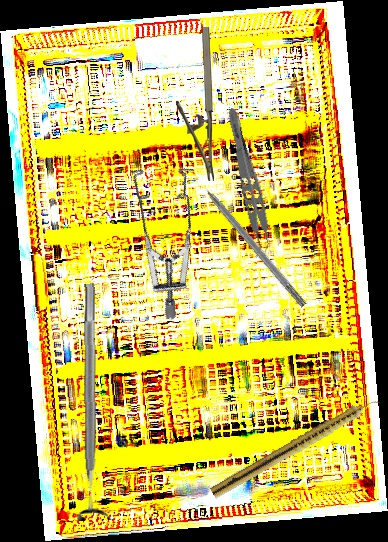Fixation Ring: (70, 283, 113, 521)
Handpiece: (209, 392, 383, 503)
Hook Surgical: (191, 171, 309, 309)
Needle Holder: (176, 27, 214, 181)
Speculum: (75, 143, 243, 323)
Tissue Forceps: (214, 106, 279, 259)
